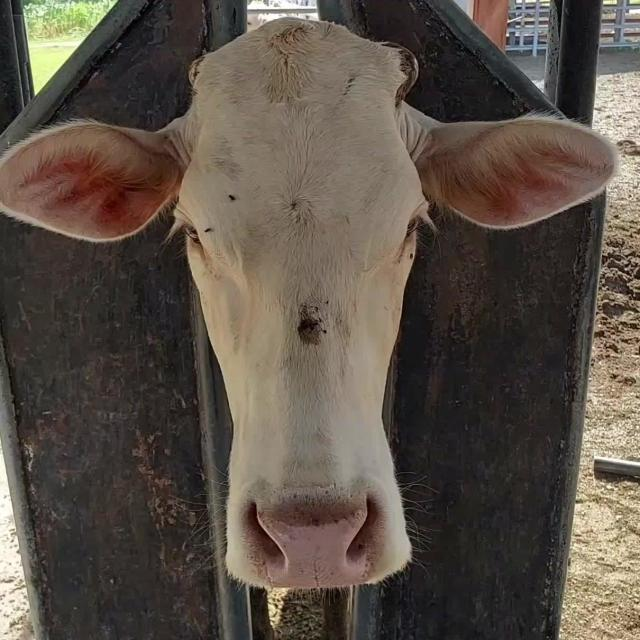cowFace: (172, 19, 428, 588)
